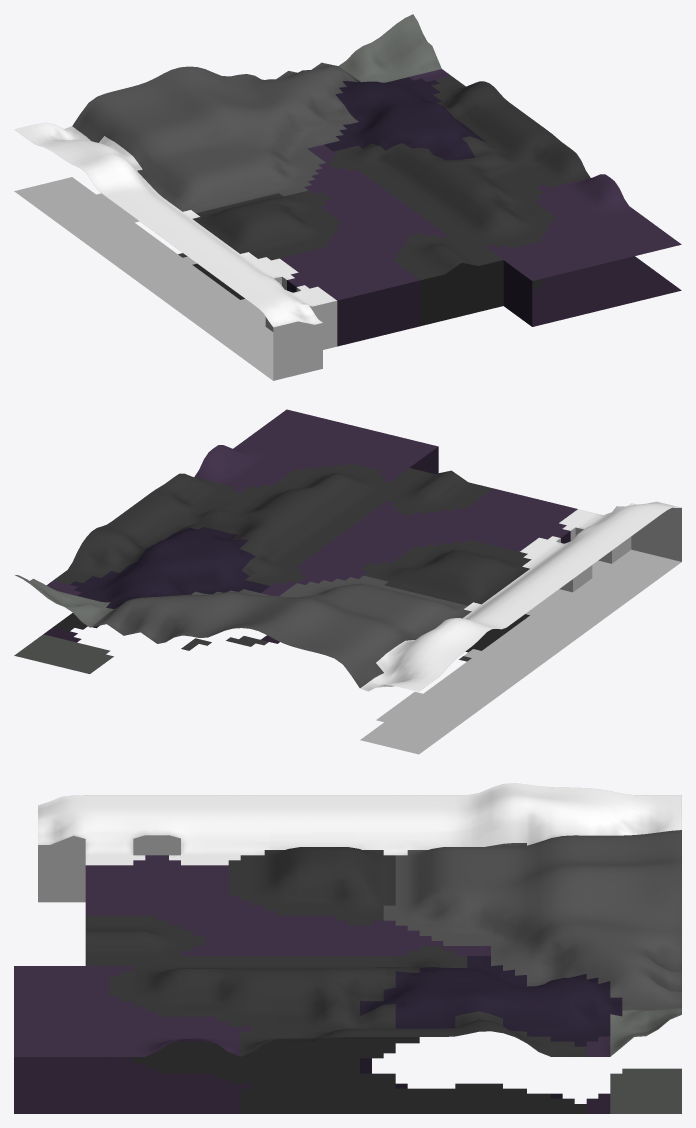
Rendered from delbld-hull-556.glb.
The picture shows the model from 3 angles, top to bottom: view 1: azimuth 30°, elevation 25°; view 2: azimuth 150°, elevation 25°; view 3: azimuth 270°, elevation 25°; orthographic projection. The views are drawn at different scales.
Parts seen in each view (by area): view 1: delbld-hull-556; view 2: delbld-hull-556; view 3: delbld-hull-556.
Part boxes in pixels (bbox=[...]): delbld-hull-556: bbox=[14, 14, 681, 380]; delbld-hull-556: bbox=[14, 409, 681, 754]; delbld-hull-556: bbox=[14, 783, 681, 1113].
Size of the model in its own units: 2 by 0.3988 by 2.33.
11 materials, 11 textured.
